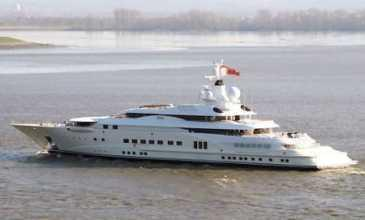yacht: (10, 65, 347, 161)
